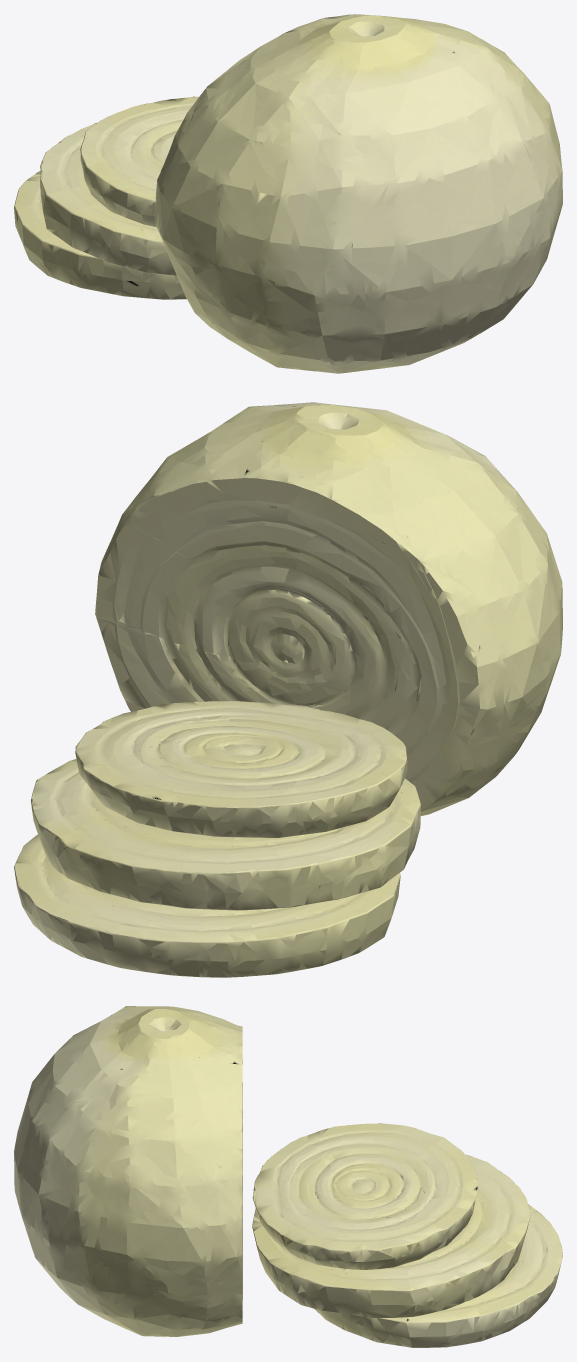
The model's file is new_onion_3.fbx.
3 views of the same model, one above another, from view 1: azimuth 30°, elevation 25°; view 2: azimuth 150°, elevation 25°; view 3: azimuth 270°, elevation 25° (orthographic). The views are drawn at different scales.
Parts seen in each view (by area): view 1: tripo_node_ca7a0789; view 2: tripo_node_ca7a0789; view 3: tripo_node_ca7a0789.
Part boxes in pixels (x1,y1,x2,y2): tripo_node_ca7a0789: [14, 14, 562, 373]; tripo_node_ca7a0789: [14, 402, 562, 977]; tripo_node_ca7a0789: [14, 1006, 562, 1347].
Bounding box in the file's own units: 67.33 × 55.16 × 98.
Materials: 1 (1 with a texture image).
